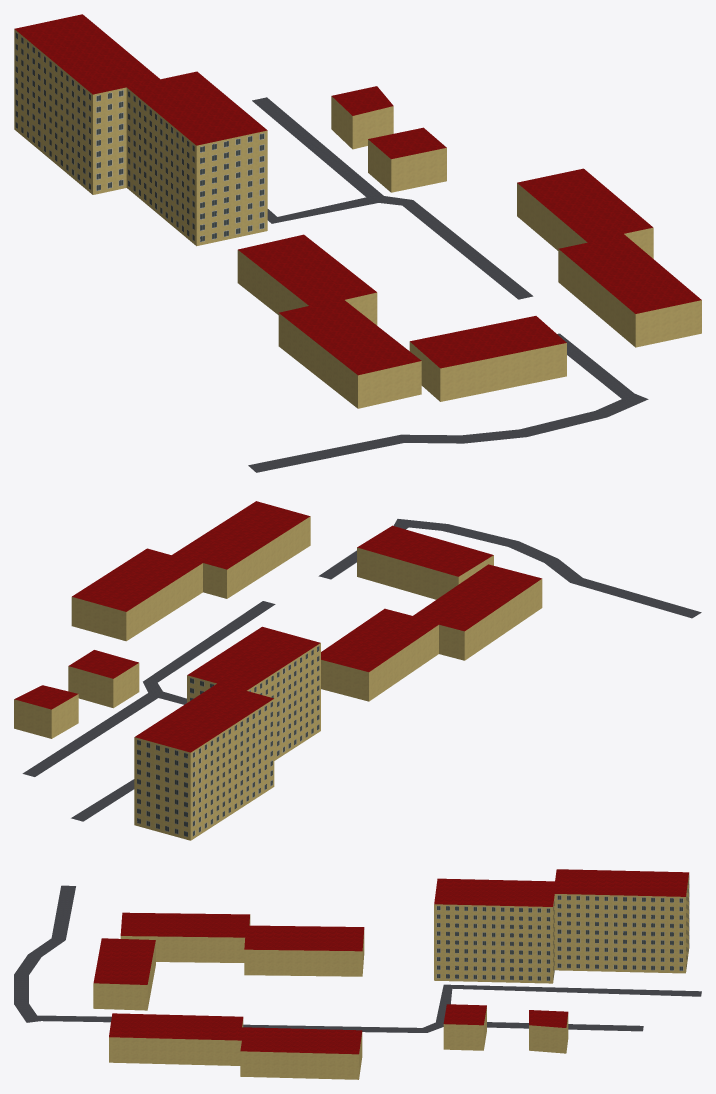
The model's file is district_2_1.glb.
The picture shows the model from 3 angles, top to bottom: view 1: azimuth 30°, elevation 25°; view 2: azimuth 150°, elevation 25°; view 3: azimuth 270°, elevation 25°; orthographic projection. The views are drawn at different scales.
Parts seen in each view (by area): view 1: Building w44036269, Building w44036248, Building w44036246, Building w44036239, Building w554703067, Road улица Текстильщиков, Building w625509348, Road w286497650, Road w286497647, Road w433068775; view 2: Building w44036269, Building w44036248, Building w44036246, Building w44036239, Building w554703067, Road улица Текстильщиков, Building w625509348, Road w286497650, Road w286497647; view 3: Building w44036269, Building w44036248, Building w44036246, Building w44036239, Road w286497650, Road улица Текстильщиков, Building w554703067, Building w625509348, Road w286497647, Road w433068775.
Part boxes in pixels (<box>): Building w44036269: <box>14,14,267,246</box>; Building w44036248: <box>517,168,701,347</box>; Building w44036246: <box>237,234,421,408</box>; Building w44036239: <box>409,316,566,401</box>; Building w554703067: <box>368,127,446,192</box>; Road улица Текстильщиков: <box>248,399,635,472</box>; Building w625509348: <box>331,86,393,149</box>; Road w286497650: <box>267,196,533,299</box>; Road w286497647: <box>252,97,381,197</box>; Road w433068775: <box>557,333,634,396</box>; Building w44036269: <box>134,626,320,840</box>; Building w44036248: <box>71,501,310,641</box>; Building w44036246: <box>321,564,542,701</box>; Building w44036239: <box>357,525,493,599</box>; Building w554703067: <box>68,650,139,708</box>; Road улица Текстильщиков: <box>409,520,701,618</box>; Building w625509348: <box>14,685,78,738</box>; Road w286497650: <box>71,601,275,821</box>; Road w286497647: <box>22,694,157,776</box>; Building w44036269: <box>434,869,689,983</box>; Building w44036248: <box>109,1013,362,1079</box>; Building w44036246: <box>120,912,364,976</box>; Building w44036239: <box>93,938,155,1010</box>; Road w286497650: <box>243,984,701,1032</box>; Road улица Текстильщиков: <box>14,885,75,1017</box>; Building w554703067: <box>443,1004,486,1050</box>; Building w625509348: <box>529,1010,568,1053</box>; Road w286497647: <box>487,1022,643,1031</box>; Road w433068775: <box>41,1015,111,1022</box>.
Size of the model in its own units: 123 by 22.5 by 183.
Materials: 4 (4 with a texture image).
